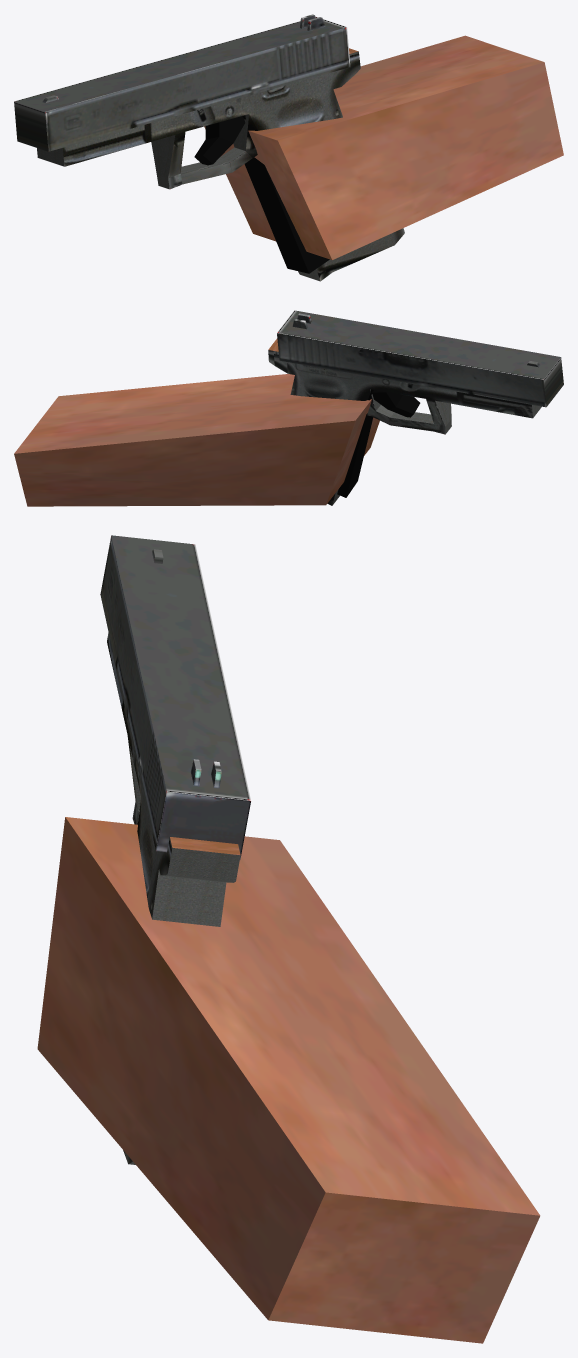
The model's file is pistol_000033.obj.
The picture shows the model from 3 angles, top to bottom: view 1: azimuth 30°, elevation 25°; view 2: azimuth 150°, elevation 25°; view 3: azimuth 270°, elevation 25°; orthographic projection. The views are drawn at different scales.
Parts seen in each view (by area): view 1: Cube, Cube.001, Cube.002, Cube.003; view 2: Cube, Cube.001, Cube.002, Cube.003; view 3: Cube, Cube.001.
Part boxes in pixels (left/top/right/bottom): Cube: left=37, top=35, right=563, bottom=281; Cube.001: left=14, top=14, right=350, bottom=151; Cube.002: left=242, top=115, right=329, bottom=273; Cube.003: left=194, top=116, right=245, bottom=165; Cube: left=14, top=338, right=541, bottom=506; Cube.001: left=277, top=310, right=563, bottom=407; Cube.002: left=324, top=369, right=373, bottom=497; Cube.003: left=372, top=390, right=420, bottom=417; Cube: left=37, top=632, right=540, bottom=1343; Cube.001: left=100, top=535, right=250, bottom=859.
Bounding box in the file's own units: 1.75 × 0.7078 × 0.84.
